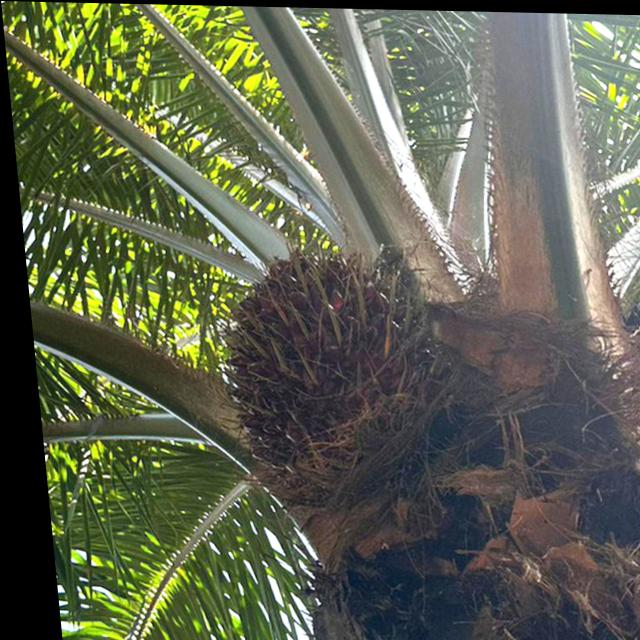ripe: (206, 249, 429, 455)
